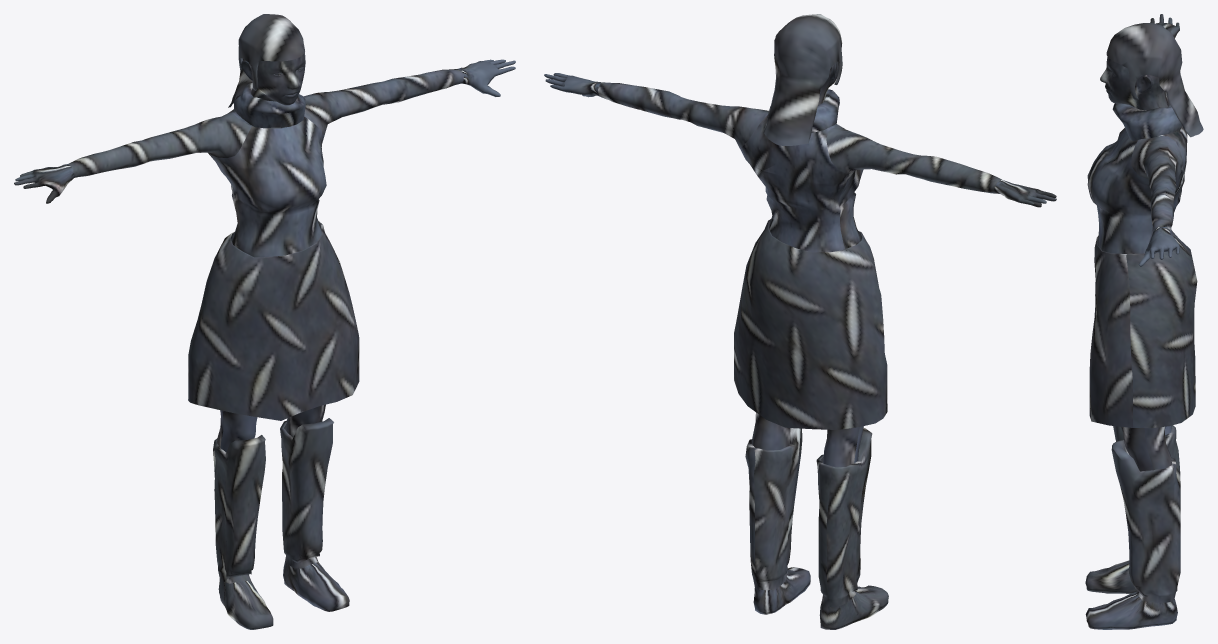
File: ninja.obj
3 renders of one model, left to right at view 1: azimuth 30°, elevation 25°; view 2: azimuth 150°, elevation 25°; view 3: azimuth 270°, elevation 25°, orthographic. The views are drawn at different scales.
Parts seen in each view (by area): view 1: Mesh_and_Rig Ninja polySurface1; view 2: Mesh_and_Rig Ninja polySurface1; view 3: Mesh_and_Rig Ninja polySurface1.
Part boxes in pixels (x1=…): Mesh_and_Rig Ninja polySurface1: x1=14, y1=14, x2=515, y2=629; Mesh_and_Rig Ninja polySurface1: x1=544, y1=14, x2=1056, y2=629; Mesh_and_Rig Ninja polySurface1: x1=1085, y1=14, x2=1203, y2=629.
Size of the model in its own units: 3.89 by 4.31 by 0.7956.
